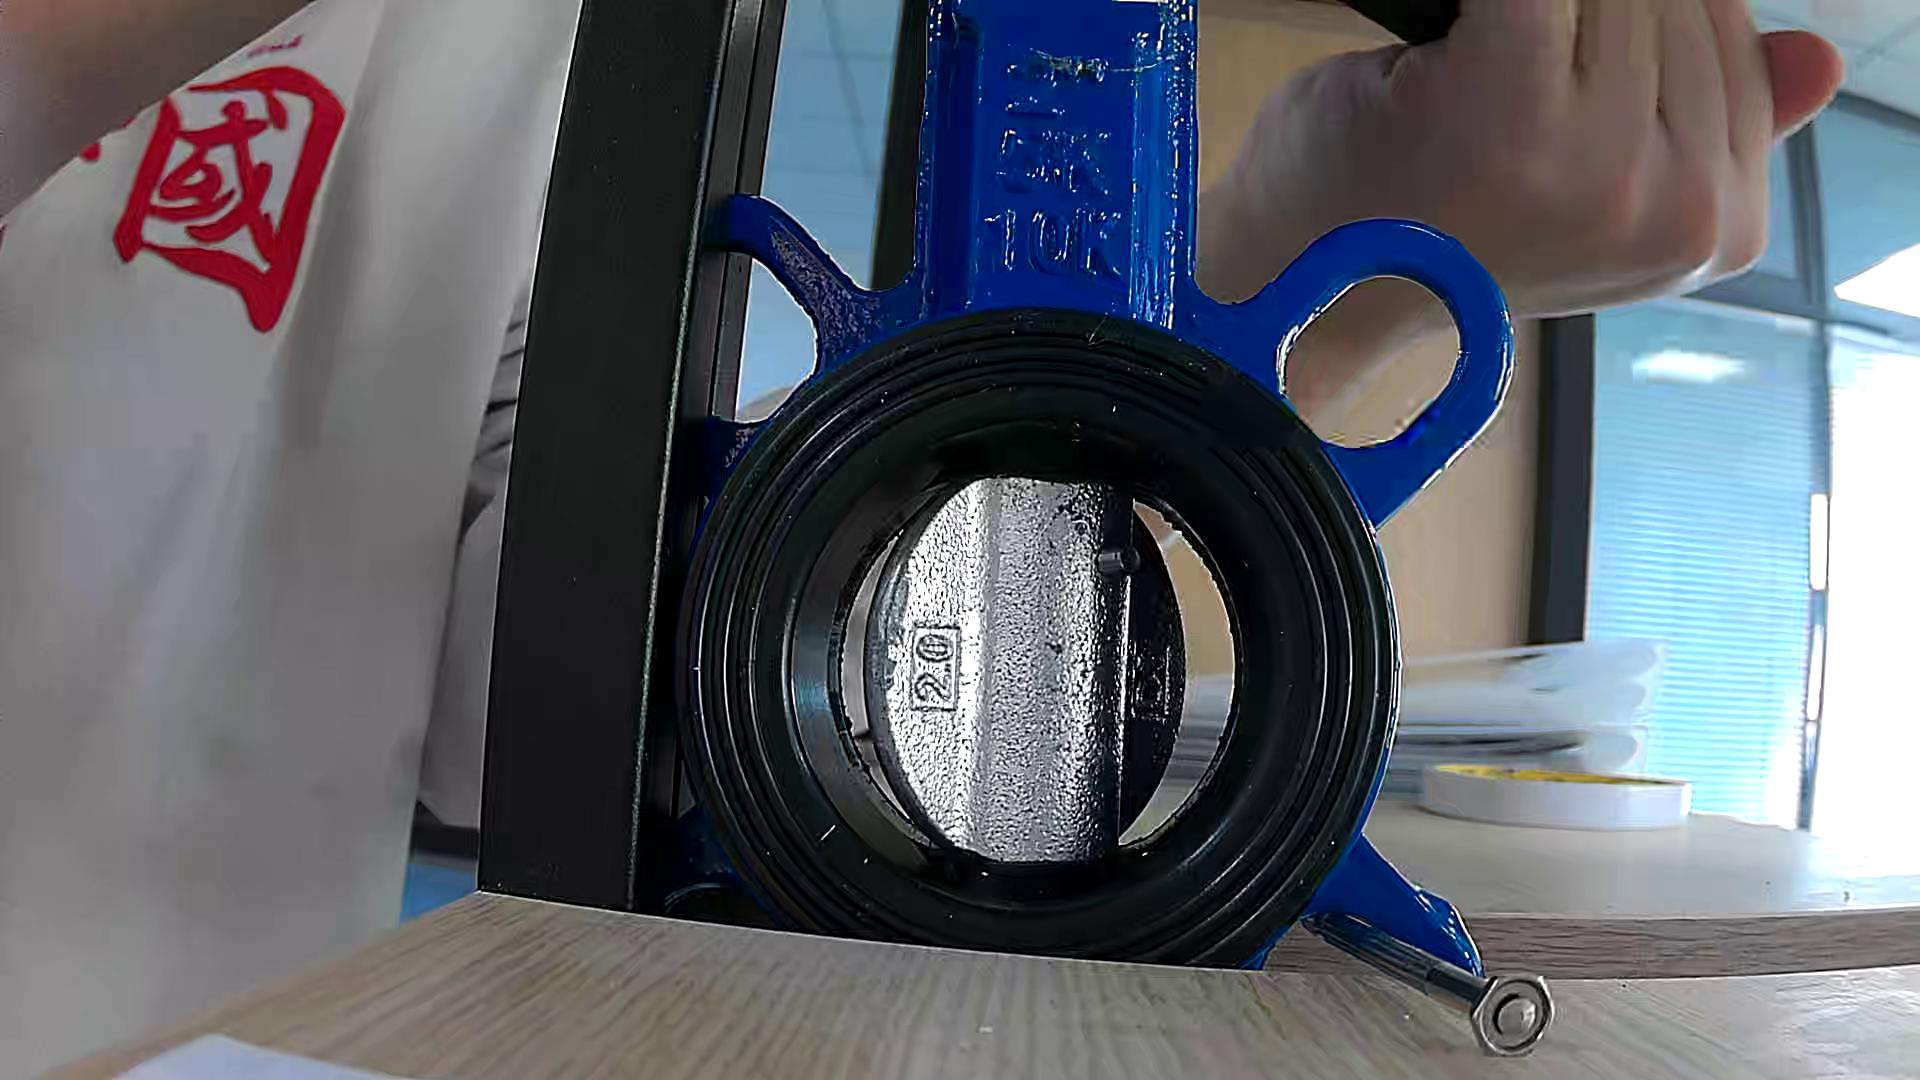valve: (864, 476, 1185, 866)
